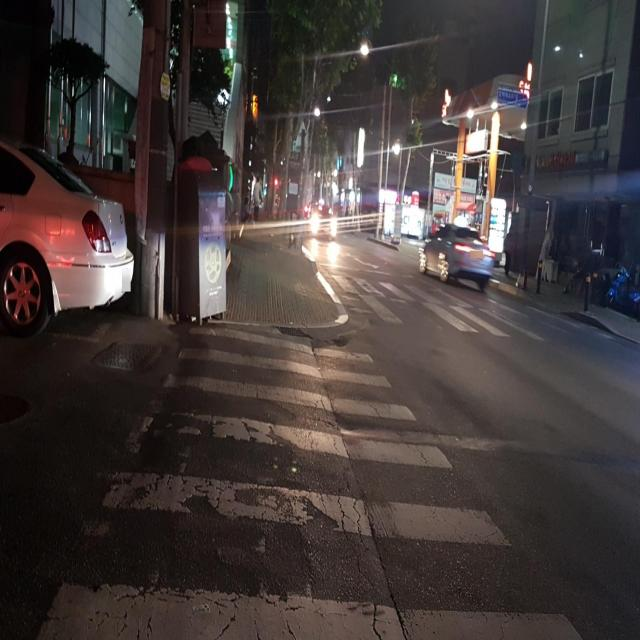횡단보도: (33, 319, 585, 640), (328, 272, 618, 343)
